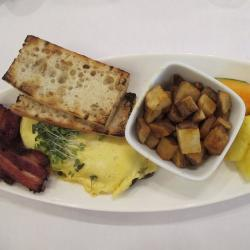bread: (5, 37, 133, 138)
omelette: (19, 120, 158, 198)
